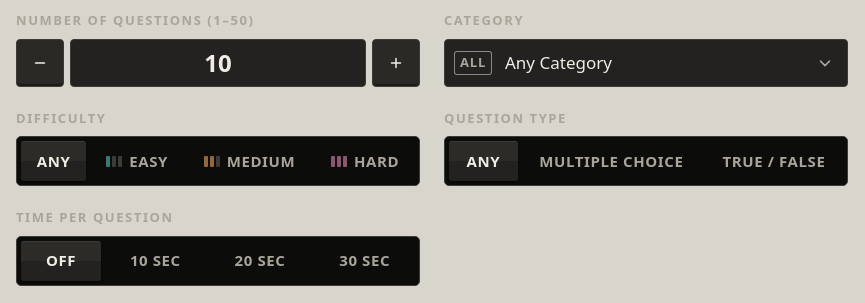
Settings › puts an impossible number of questions back in range when you leave the box
Replace the text in the number field labelled "Number of questions (1–50)" with "999": (218,62) 70,38 -> 366,86
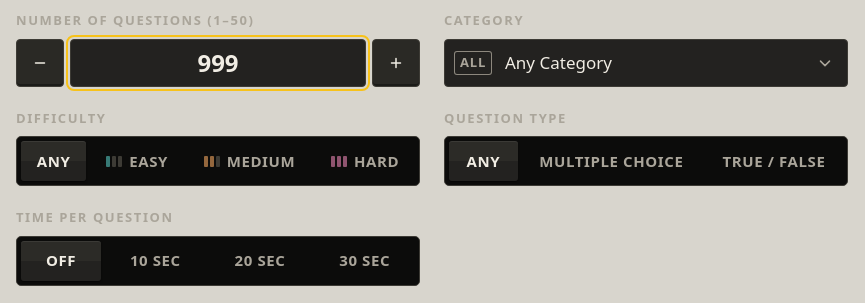
Press Tab
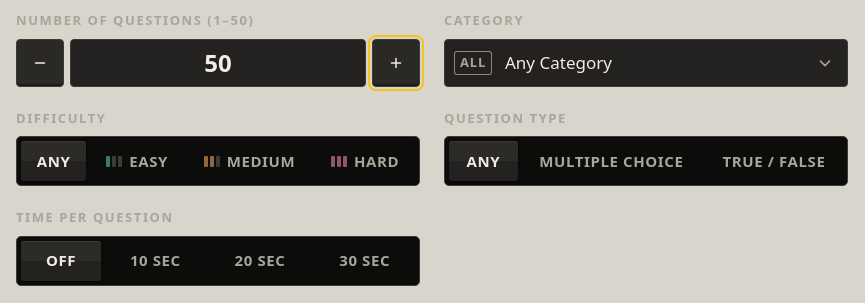
Result: the number field labelled "Number of questions (1–50)" holds "50"
Clear the number field labelled "Number of questions (1–50)": (218,62) 70,38 -> 366,86
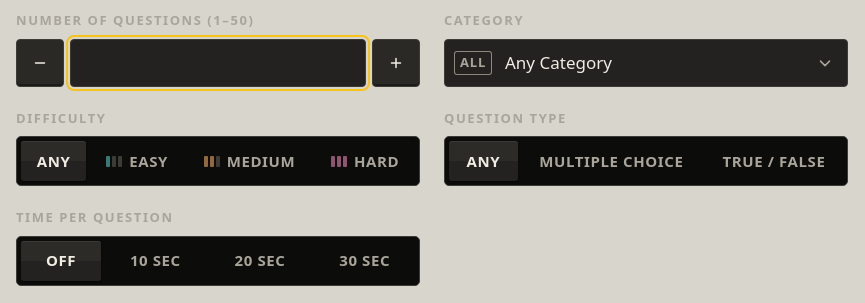
Press Tab
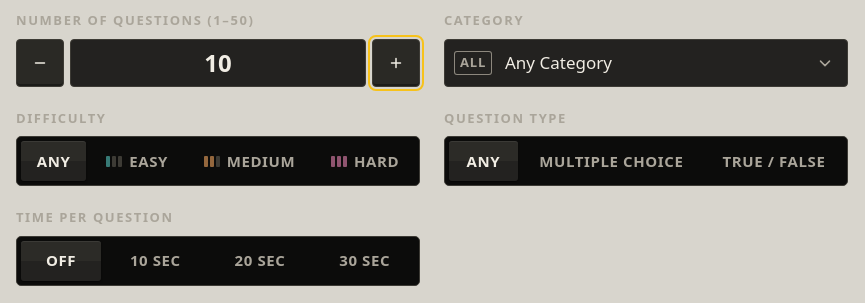
Result: the number field labelled "Number of questions (1–50)" holds "10" at 70,38 -> 366,86
